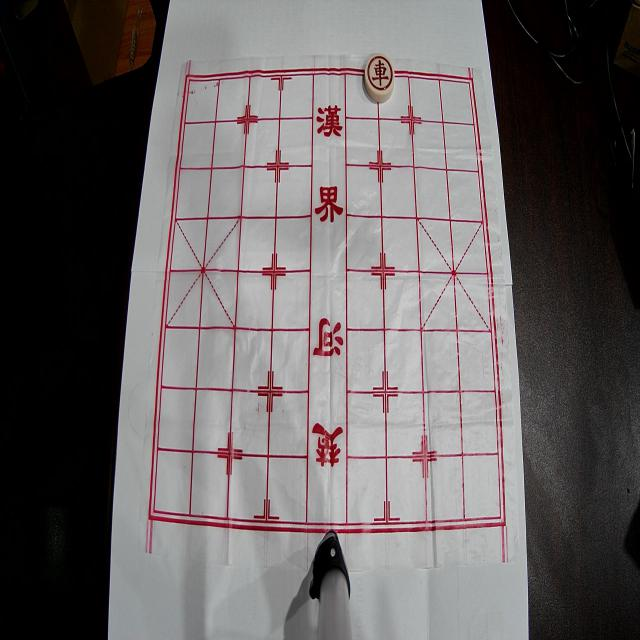red-chariot: (364, 53, 394, 103)
